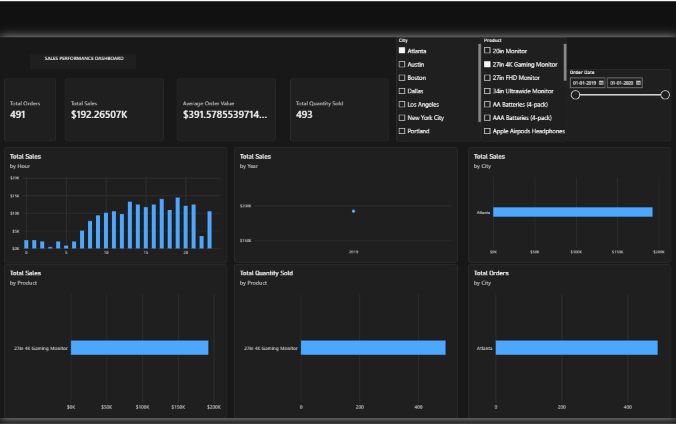

The page's visual inventory and layout, read from the dashboard file:
{"tool":"powerbi","page":{"name":"Page 1","canvas":[1920,1080],"ordinal":0},"visuals":[{"type":"cardVisual","fields":{"Data":["Sales_Data.Total Sales"]},"box":[184.3,116.2,280.6,178.6],"z":0},{"type":"cardVisual","fields":{"Data":["Sales_Data.Total Orders"]},"box":[11.3,116.2,147.4,178.6],"z":1000},{"type":"cardVisual","fields":{"Data":["Sales_Data.Total Quantity Sold"]},"box":[822.1,116.2,280.6,178.6],"z":2000},{"type":"cardVisual","fields":{"Data":["Sales_Data.Average Order Value"]},"box":[501.7,116.2,280.6,178.6],"z":3000},{"type":"clusteredBarChart","fields":{"Category":["Sales_Data.Product"],"Y":["Sales_Data.Total Sales"]},"box":[11.3,643.5,632.1,436.5],"z":4000},{"type":"clusteredBarChart","fields":{"Category":["Sales_Data.City"],"Y":["Sales_Data.Total Sales"]},"box":[1326.6,311.8,575.4,326],"z":5000},{"type":"lineChart","fields":{"Category":["Sales_Data.Order Date.Variation.Date Hierarchy.Year","Sales_Data.Order Date.Variation.Date Hierarchy.Quarter","Sales_Data.Order Date.Variation.Date Hierarchy.Month","Sales_Data.Order Date.Variation.Date Hierarchy.Day"],"Y":["Sales_Data.Total Sales"]},"box":[663.3,311.8,635,326],"z":6000},{"type":"clusteredColumnChart","fields":{"Category":["Sales_Data.Hour"],"Y":["Sales_Data.Total Sales"]},"box":[11.3,311.8,632.1,328.8],"z":7000},{"type":"clusteredBarChart","fields":{"Category":["Sales_Data.Product"],"Y":["Sales_Data.Total Quantity Sold"]},"box":[663.3,643.5,635,436.5],"z":8000},{"type":"clusteredBarChart","fields":{"Category":["Sales_Data.City"],"Y":["Sales_Data.Total Orders"]},"box":[1326.6,643.5,575.4,436.5],"z":9000},{"type":"slicer","fields":{"Values":["Sales_Data.City"]},"box":[1121.7,0,241.7,295],"z":10000},{"type":"slicer","fields":{"Values":["Sales_Data.Product"]},"box":[1363.3,0,243.3,295],"z":11000},{"type":"slicer","fields":{"Values":["Sales_Data.Order Date"]},"box":[1606.7,91.7,295,203.3],"z":12000},{"type":"textbox","box":[85,48.2,300.5,42.5],"z":13000}]}

Visuals, with their boxes on the page's 1920x1080 design canvas (x1, y1, x2, y2). These are canvas units, not pixel positions in the 676x424 screenshot, which may show the page scaled, cropped or inside an application window:
cardVisual - Sales_Data.Total Sales: x1=184, y1=116, x2=465, y2=295
cardVisual - Sales_Data.Total Orders: x1=11, y1=116, x2=159, y2=295
cardVisual - Sales_Data.Total Quantity Sold: x1=822, y1=116, x2=1103, y2=295
cardVisual - Sales_Data.Average Order Value: x1=502, y1=116, x2=782, y2=295
clusteredBarChart - Sales_Data.Product x Sales_Data.Total Sales: x1=11, y1=644, x2=643, y2=1080
clusteredBarChart - Sales_Data.City x Sales_Data.Total Sales: x1=1327, y1=312, x2=1902, y2=638
lineChart - Sales_Data.Order Date.Variation.Date Hierarchy.Year x Sales_Data.Order Date.Variation.Date Hierarchy.Quarter: x1=663, y1=312, x2=1298, y2=638
clusteredColumnChart - Sales_Data.Hour x Sales_Data.Total Sales: x1=11, y1=312, x2=643, y2=641
clusteredBarChart - Sales_Data.Product x Sales_Data.Total Quantity Sold: x1=663, y1=644, x2=1298, y2=1080
clusteredBarChart - Sales_Data.City x Sales_Data.Total Orders: x1=1327, y1=644, x2=1902, y2=1080
slicer - Sales_Data.City: x1=1122, y1=0, x2=1363, y2=295
slicer - Sales_Data.Product: x1=1363, y1=0, x2=1607, y2=295
slicer - Sales_Data.Order Date: x1=1607, y1=92, x2=1902, y2=295
textbox: x1=85, y1=48, x2=386, y2=91
